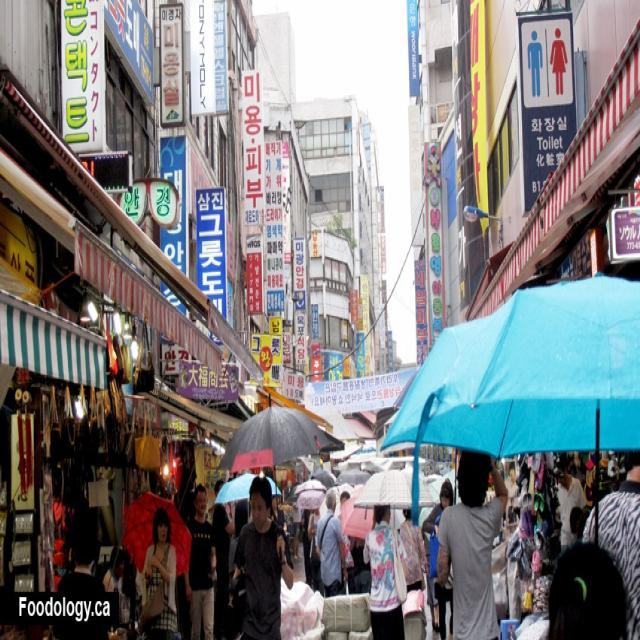body: (547, 454, 639, 640), (436, 442, 510, 639), (227, 474, 295, 639), (362, 503, 408, 640), (181, 482, 219, 639), (421, 478, 455, 639), (138, 506, 179, 639), (211, 478, 235, 640), (85, 454, 124, 552), (57, 521, 106, 596), (315, 489, 348, 600), (554, 456, 588, 556), (398, 506, 429, 595), (338, 490, 356, 595), (422, 530, 439, 638), (228, 498, 252, 574), (306, 506, 324, 593), (346, 536, 371, 593), (299, 508, 312, 589), (290, 505, 303, 561), (271, 491, 286, 529), (222, 468, 243, 484), (283, 521, 288, 534)
